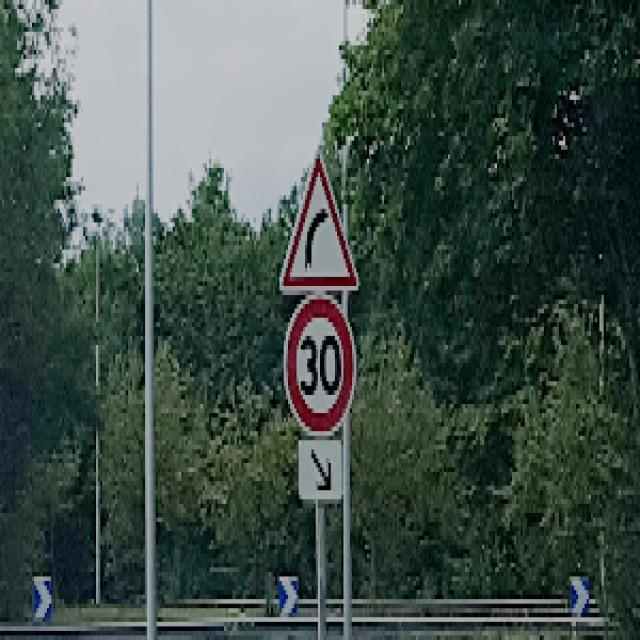speed_30: (284, 298, 356, 437)
